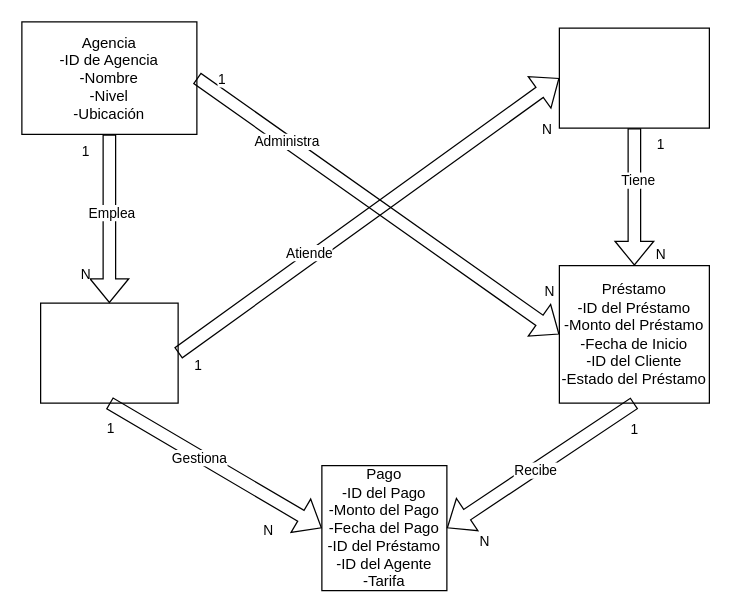
The diagram is 731 pixels wide and 613 high, and some of its shapes have lost their labels. Each missing label, with the centre of its shape:
Agente -ID del Agente -Nombre del Agente -ID de Agencia: [108,352]
Cliente -ID del Cliente -Nombre del Cliente -Información de Contacto: [633,77]
